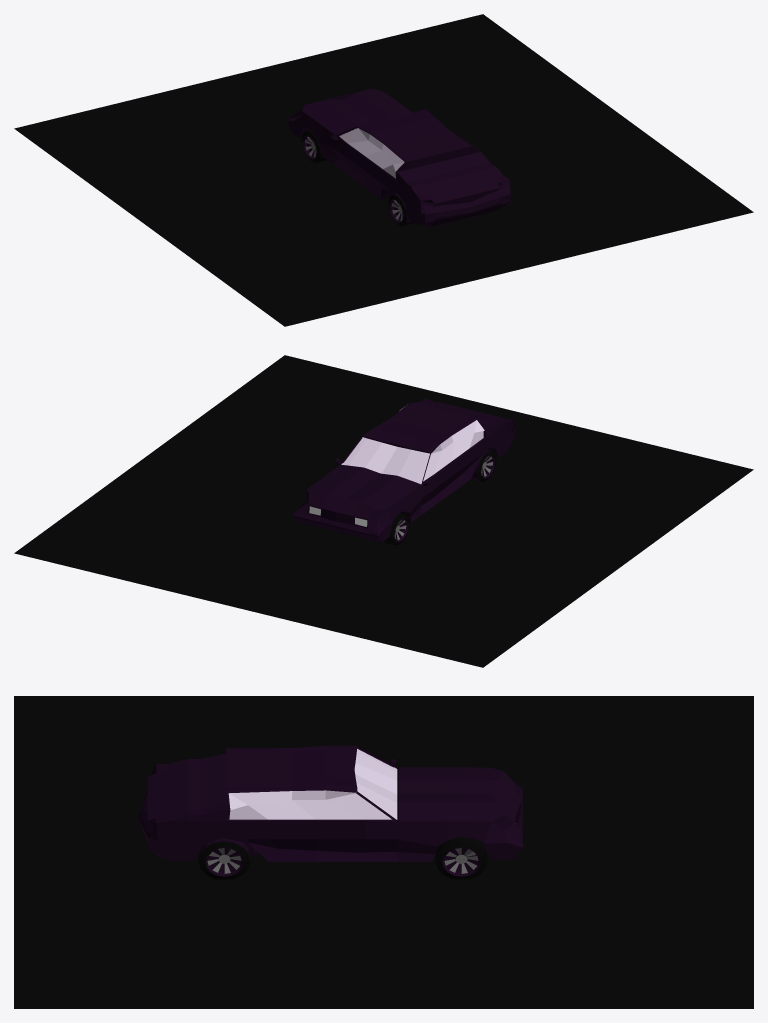
The model's file is BroomBroom2.fbx.
3 renders of one model, top to bottom at view 1: azimuth 30°, elevation 25°; view 2: azimuth 150°, elevation 25°; view 3: azimuth 270°, elevation 25°, orthographic. The views are drawn at different scales.
Visible parts, largest first — view 1: Plane, Cube; view 2: Plane, Cube; view 3: Plane, Cube.
Boxes of the visible parts, bbox=[...] form: Plane: bbox=[14, 14, 753, 326]; Cube: bbox=[288, 88, 510, 226]; Plane: bbox=[14, 355, 753, 667]; Cube: bbox=[292, 398, 515, 545]; Plane: bbox=[14, 696, 753, 1008]; Cube: bbox=[138, 745, 523, 879].
Size of the model in its own units: 896 by 114 by 896.
